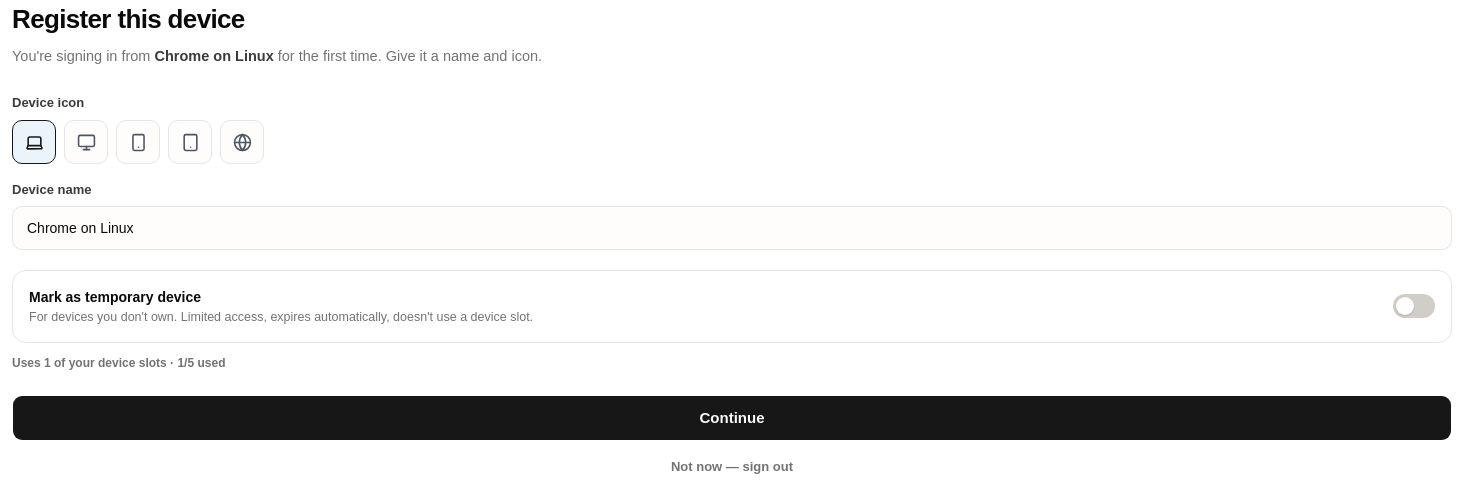
Test: RegisterDeviceForm › shows the device list to revoke on DEVICE_LIMIT_REACHED
Click the button "Continue" at (732, 418), box [12,395,1452,441]
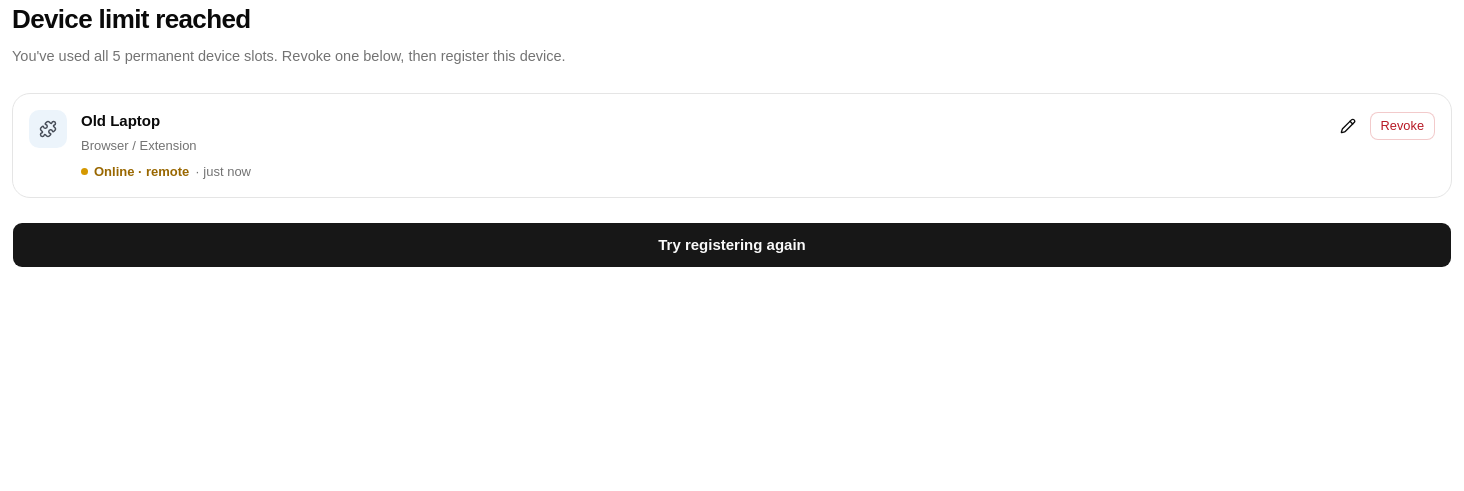
expect the heading "Device limit reached" is shown: met, box [12,4,250,34]
expect the text "Old Laptop" is shown: met, box [81,110,160,132]
expect the button "Revoke" is shown: met, box [1370,112,1435,140]
